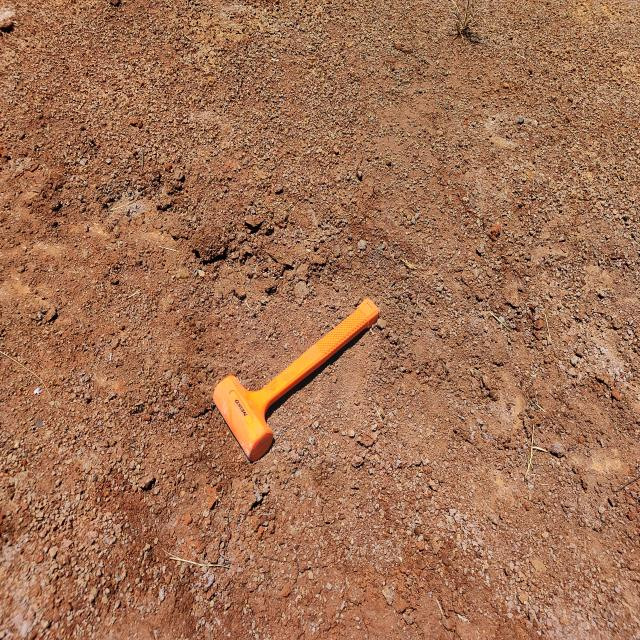Orange_hammer: (212, 296, 380, 462)
